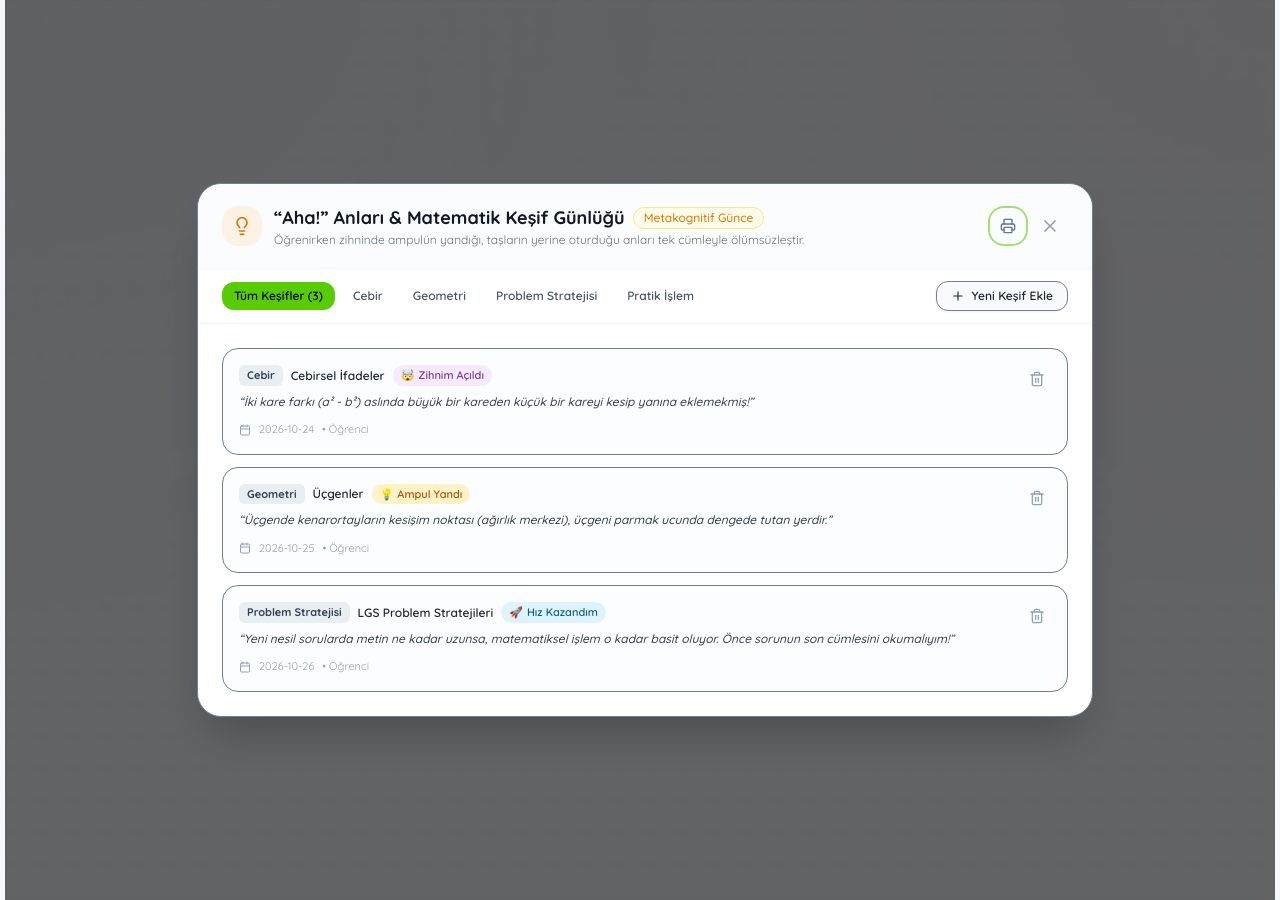
MathAhaMomentsModal › yeni keşif ekle formunu açıp kapatır
Click the button "Yeni Keşif Ekle" at (1002, 296), box [936,281,1068,311]
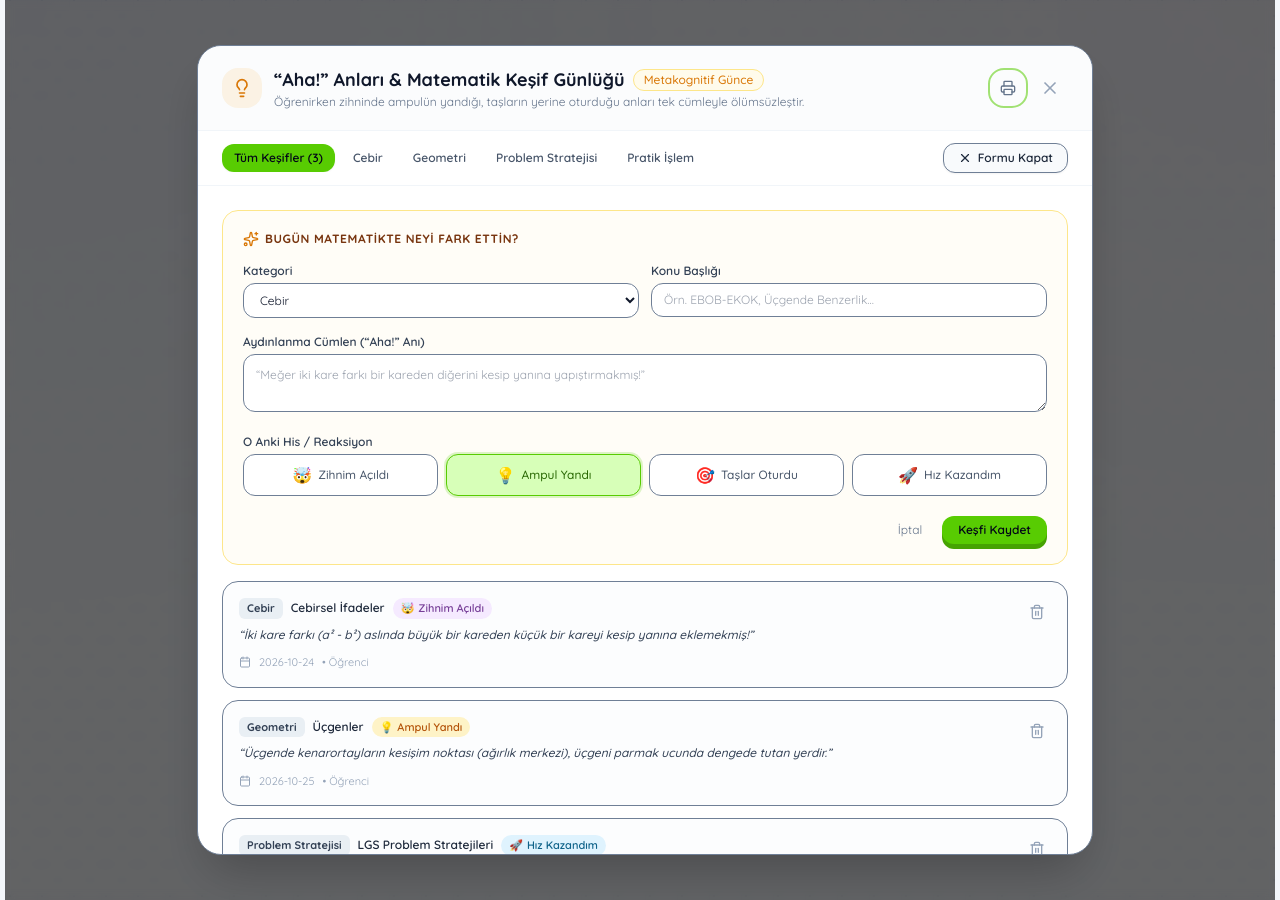
Expected: the heading "Bugün Matematikte Neyi Fark Ettin?" is shown, [243,231,519,247]
Expected: the button "Keşfi Kaydet" is shown, [942,516,1047,544]
Click the button "Formu Kapat" at (1005, 158), box [943,143,1068,173]
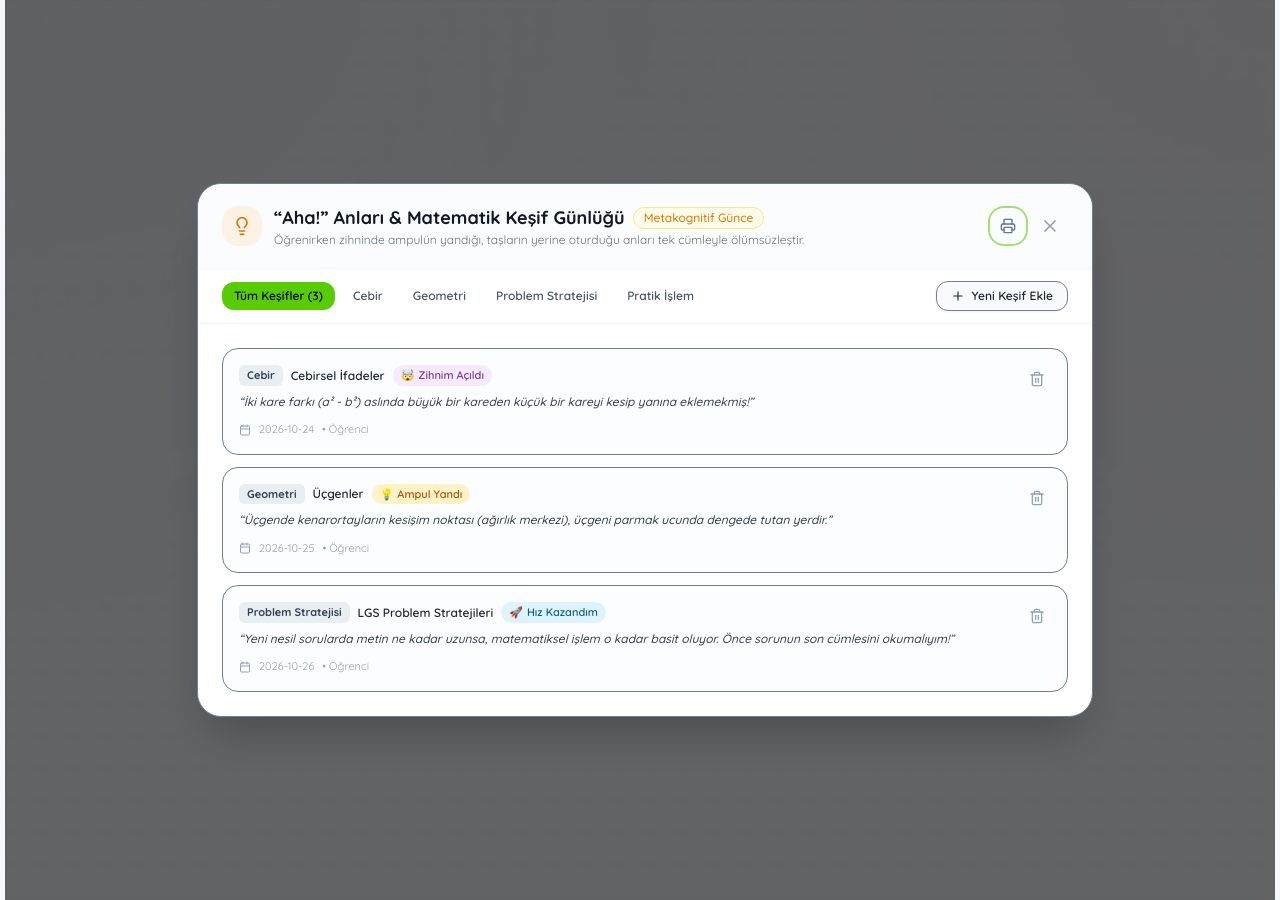
Expected: the heading "Bugün Matematikte Neyi Fark Ettin?" is gone
